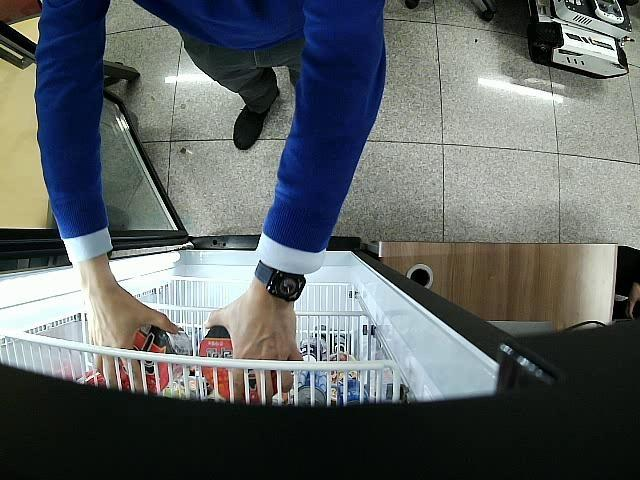01_ShinRamen_L: (200, 324, 278, 404), (118, 324, 194, 394)
